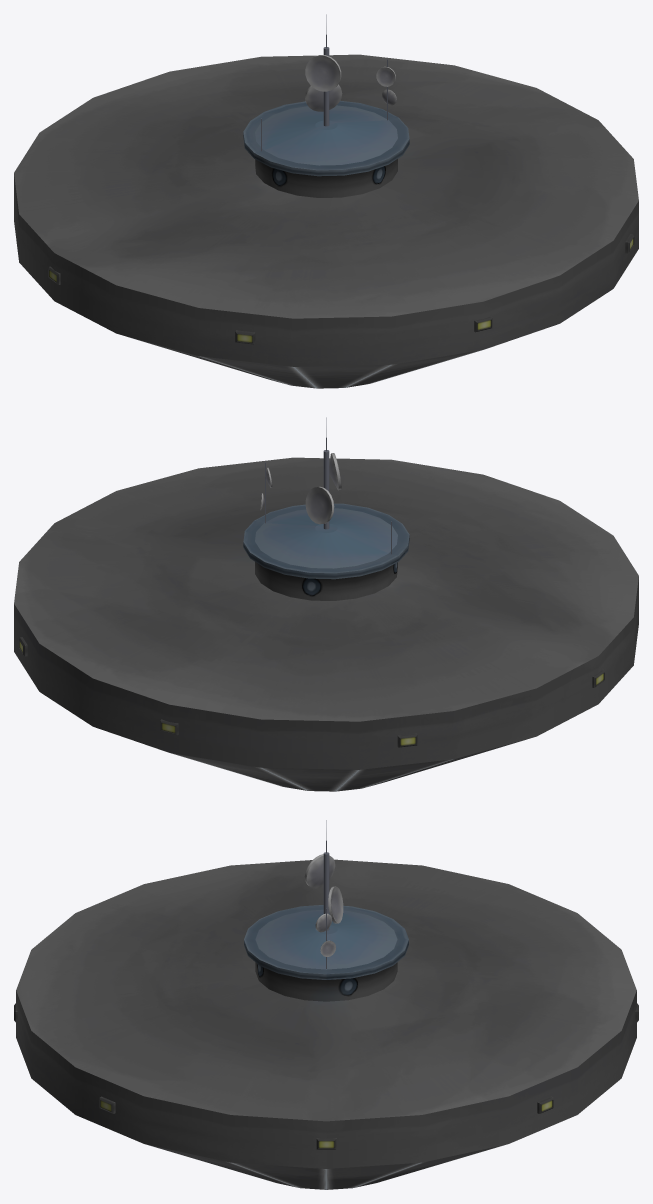
The model's file is Spaceship.fbx.
The picture shows the model from 3 angles, top to bottom: view 1: azimuth 30°, elevation 25°; view 2: azimuth 150°, elevation 25°; view 3: azimuth 270°, elevation 25°; orthographic projection.
Parts seen in each view (by area): view 1: spaceship_base, spaceship_plate_3, spaceship_lights, spaceship_plate_2; view 2: spaceship_base, spaceship_plate_2, spaceship_lights; view 3: spaceship_base, spaceship_lights, spaceship_plate_3.
Boxes of the visible parts, x1,y1,x2,y2 form: spaceship_base: [14, 54, 638, 388]; spaceship_plate_3: [305, 55, 341, 91]; spaceship_lights: [48, 234, 634, 344]; spaceship_plate_2: [305, 84, 342, 111]; spaceship_base: [14, 457, 638, 791]; spaceship_plate_2: [305, 486, 334, 524]; spaceship_lights: [18, 637, 604, 747]; spaceship_base: [16, 859, 636, 1189]; spaceship_lights: [14, 1003, 638, 1149]; spaceship_plate_3: [304, 854, 335, 888].
Size of the model in its own units: 1.8 by 1.08 by 1.8.
